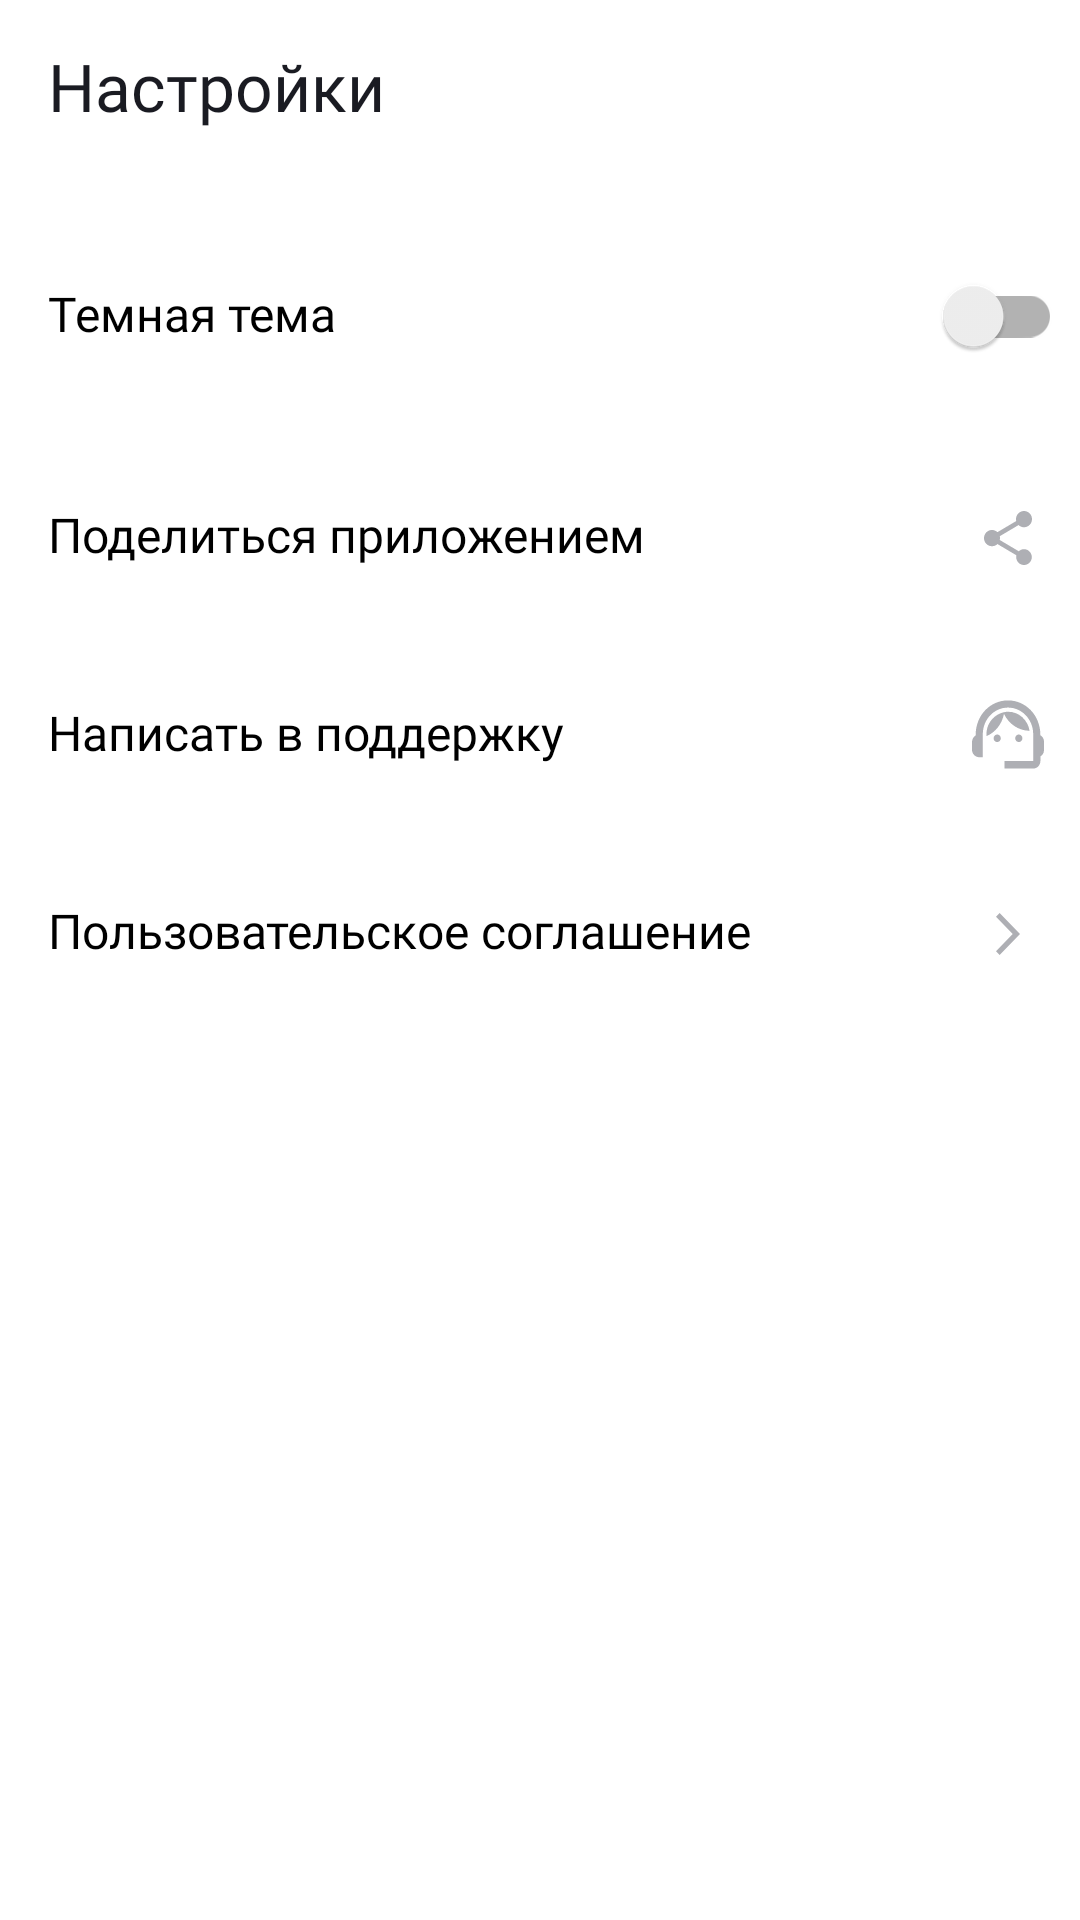

Icons on this 1080px x 1920px Android screen, each with the point to tap as (x=x, y=y):
arrowforward: (x=1008, y=934)
share: (x=1008, y=538)
support: (x=1008, y=734)
